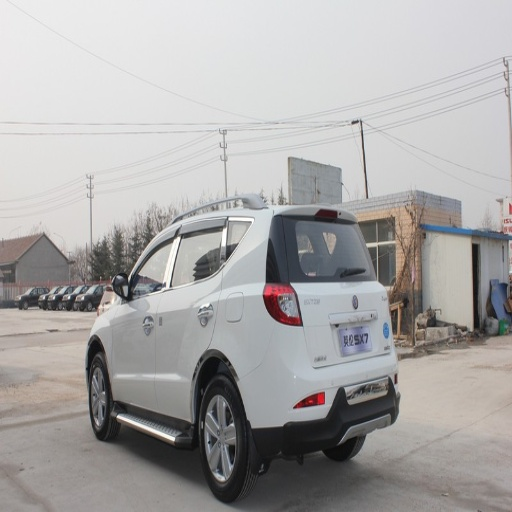back_bumper: (236, 320, 399, 450)
back_glass: (269, 218, 374, 280)
back_left_door: (157, 223, 224, 415)
